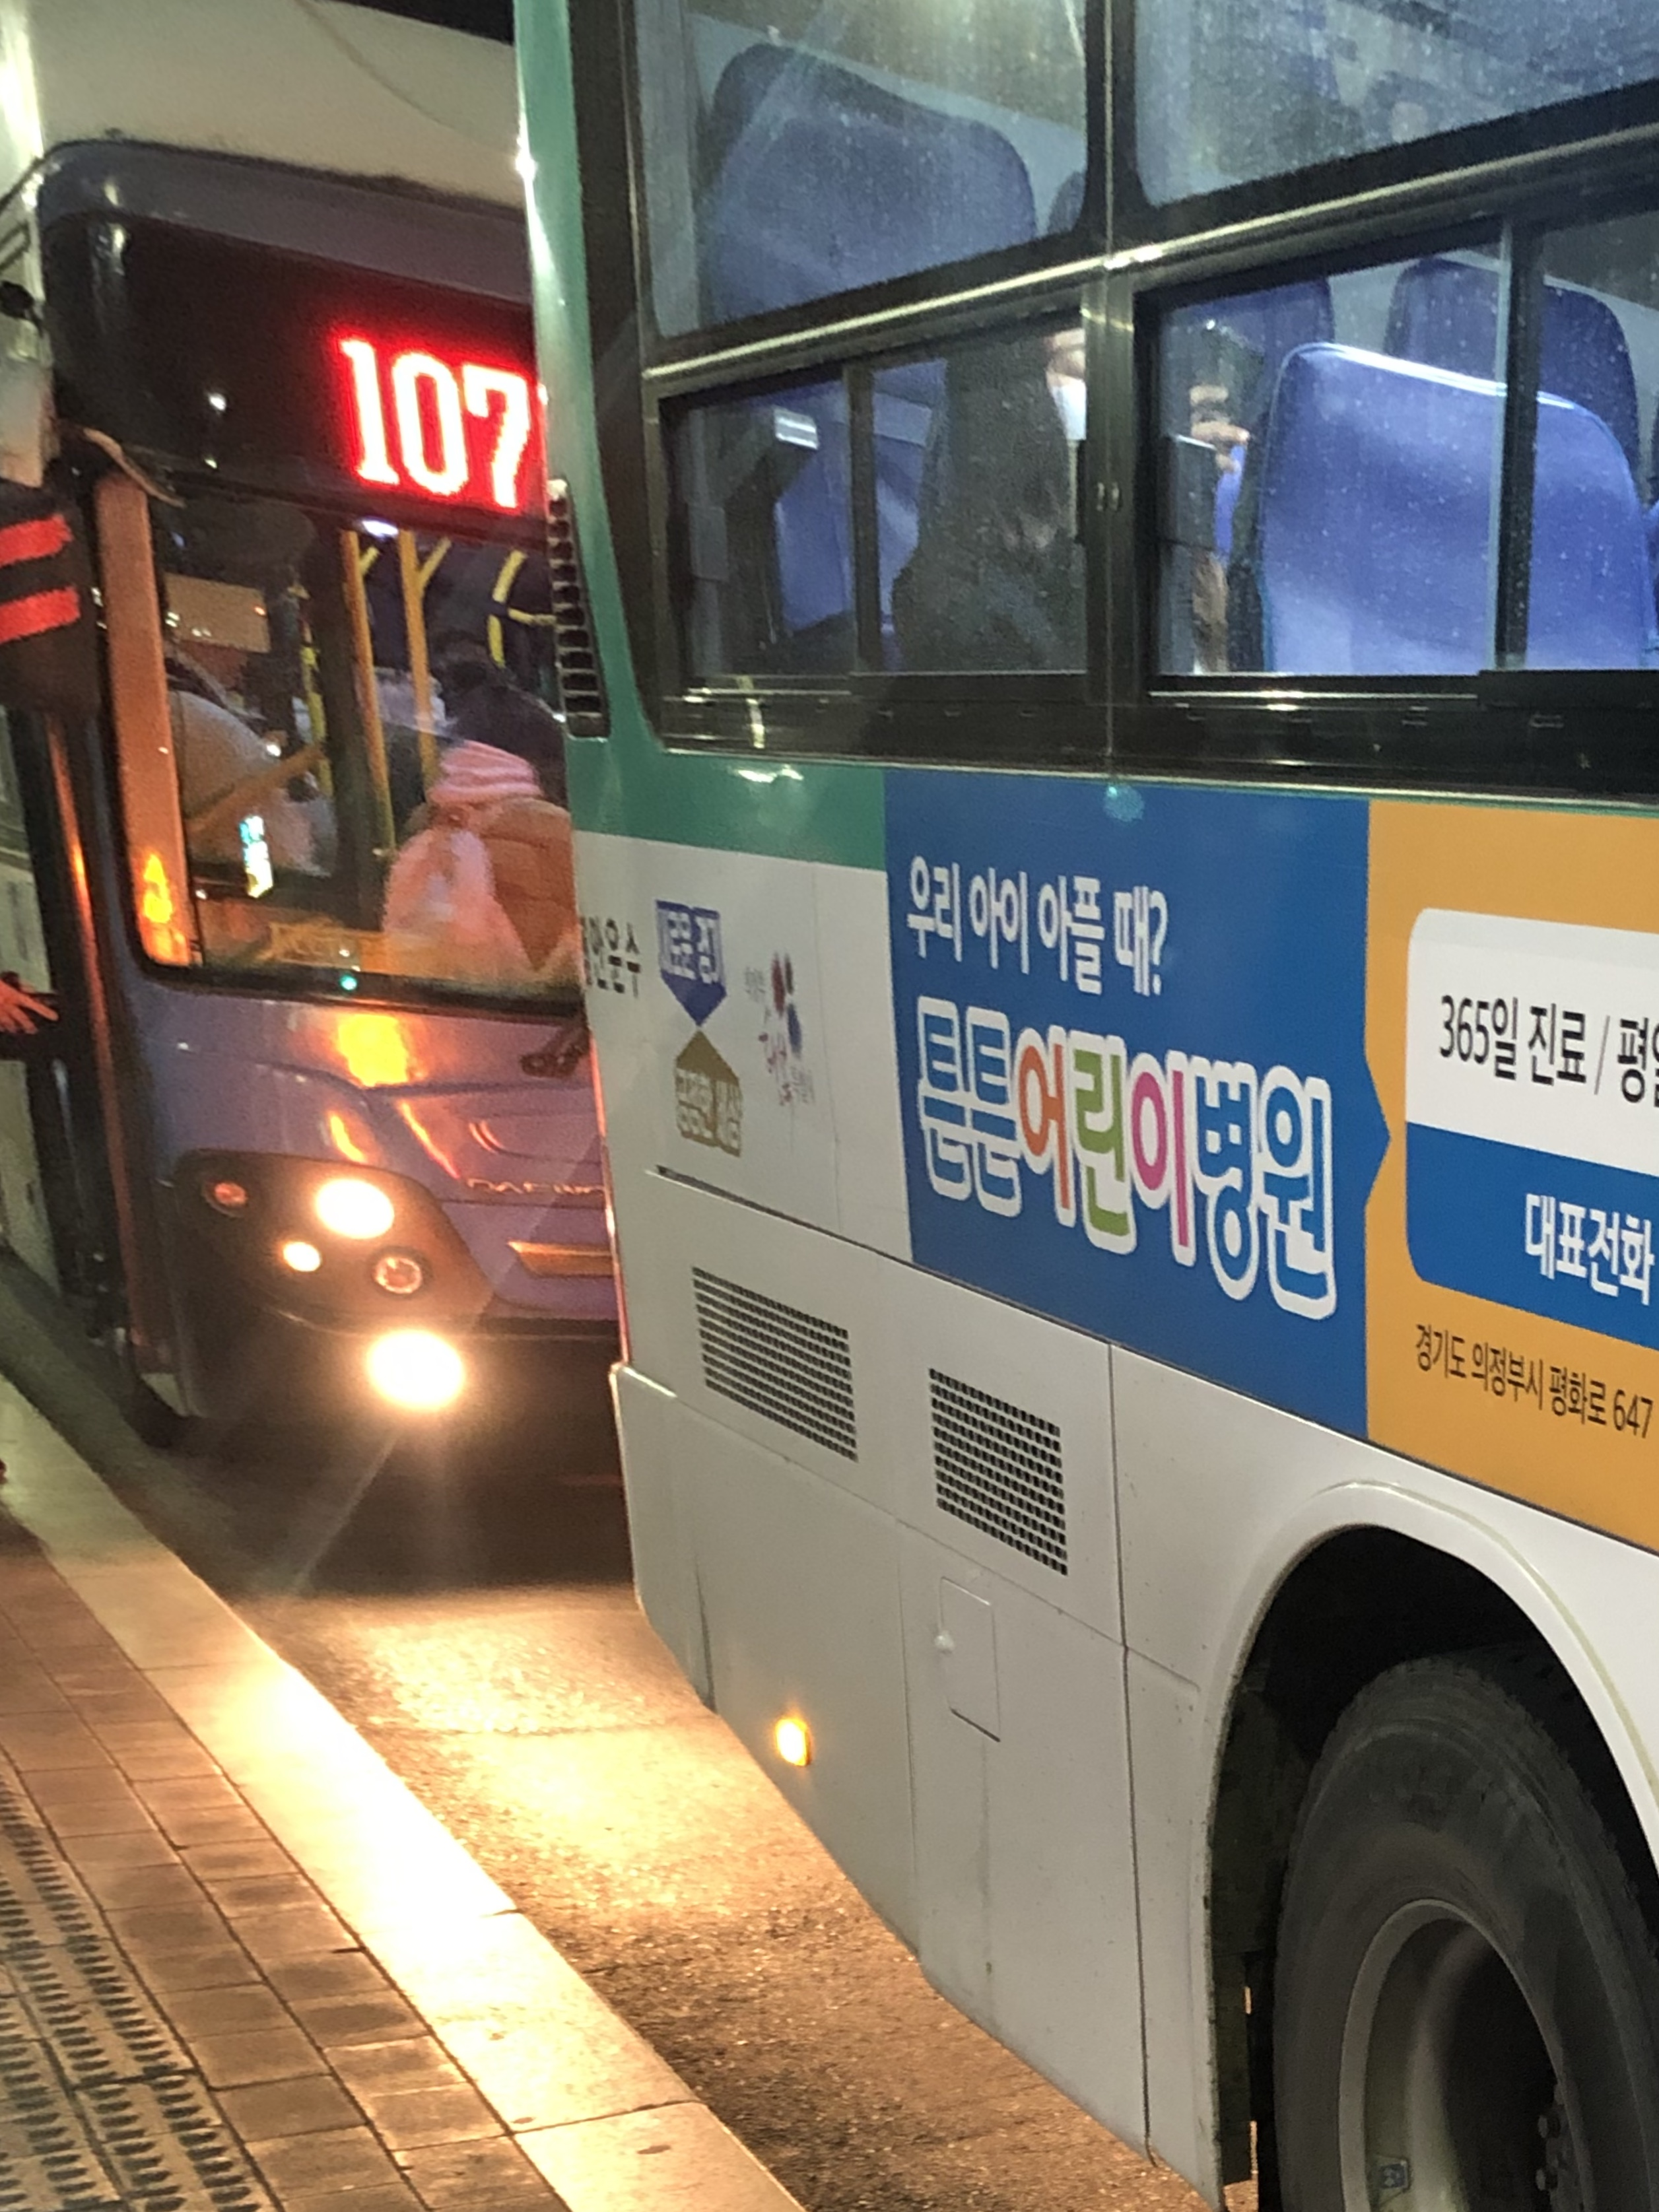bnum: (310, 317, 552, 523)
